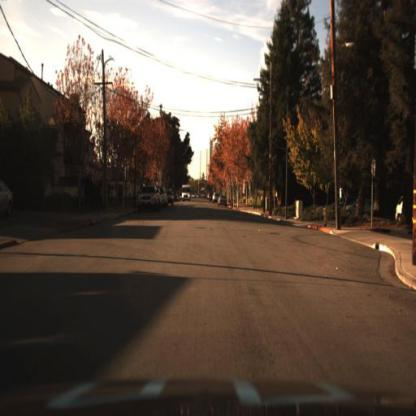car: (342, 194, 384, 223), (137, 185, 160, 213), (1, 178, 16, 217), (137, 185, 158, 210), (180, 185, 194, 203), (217, 193, 229, 209)
truck: (183, 185, 193, 206)
